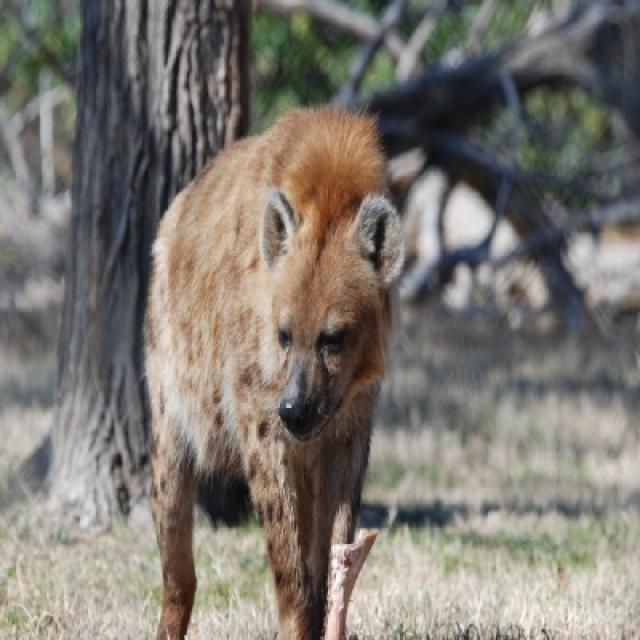hyena: (144, 107, 402, 638)
